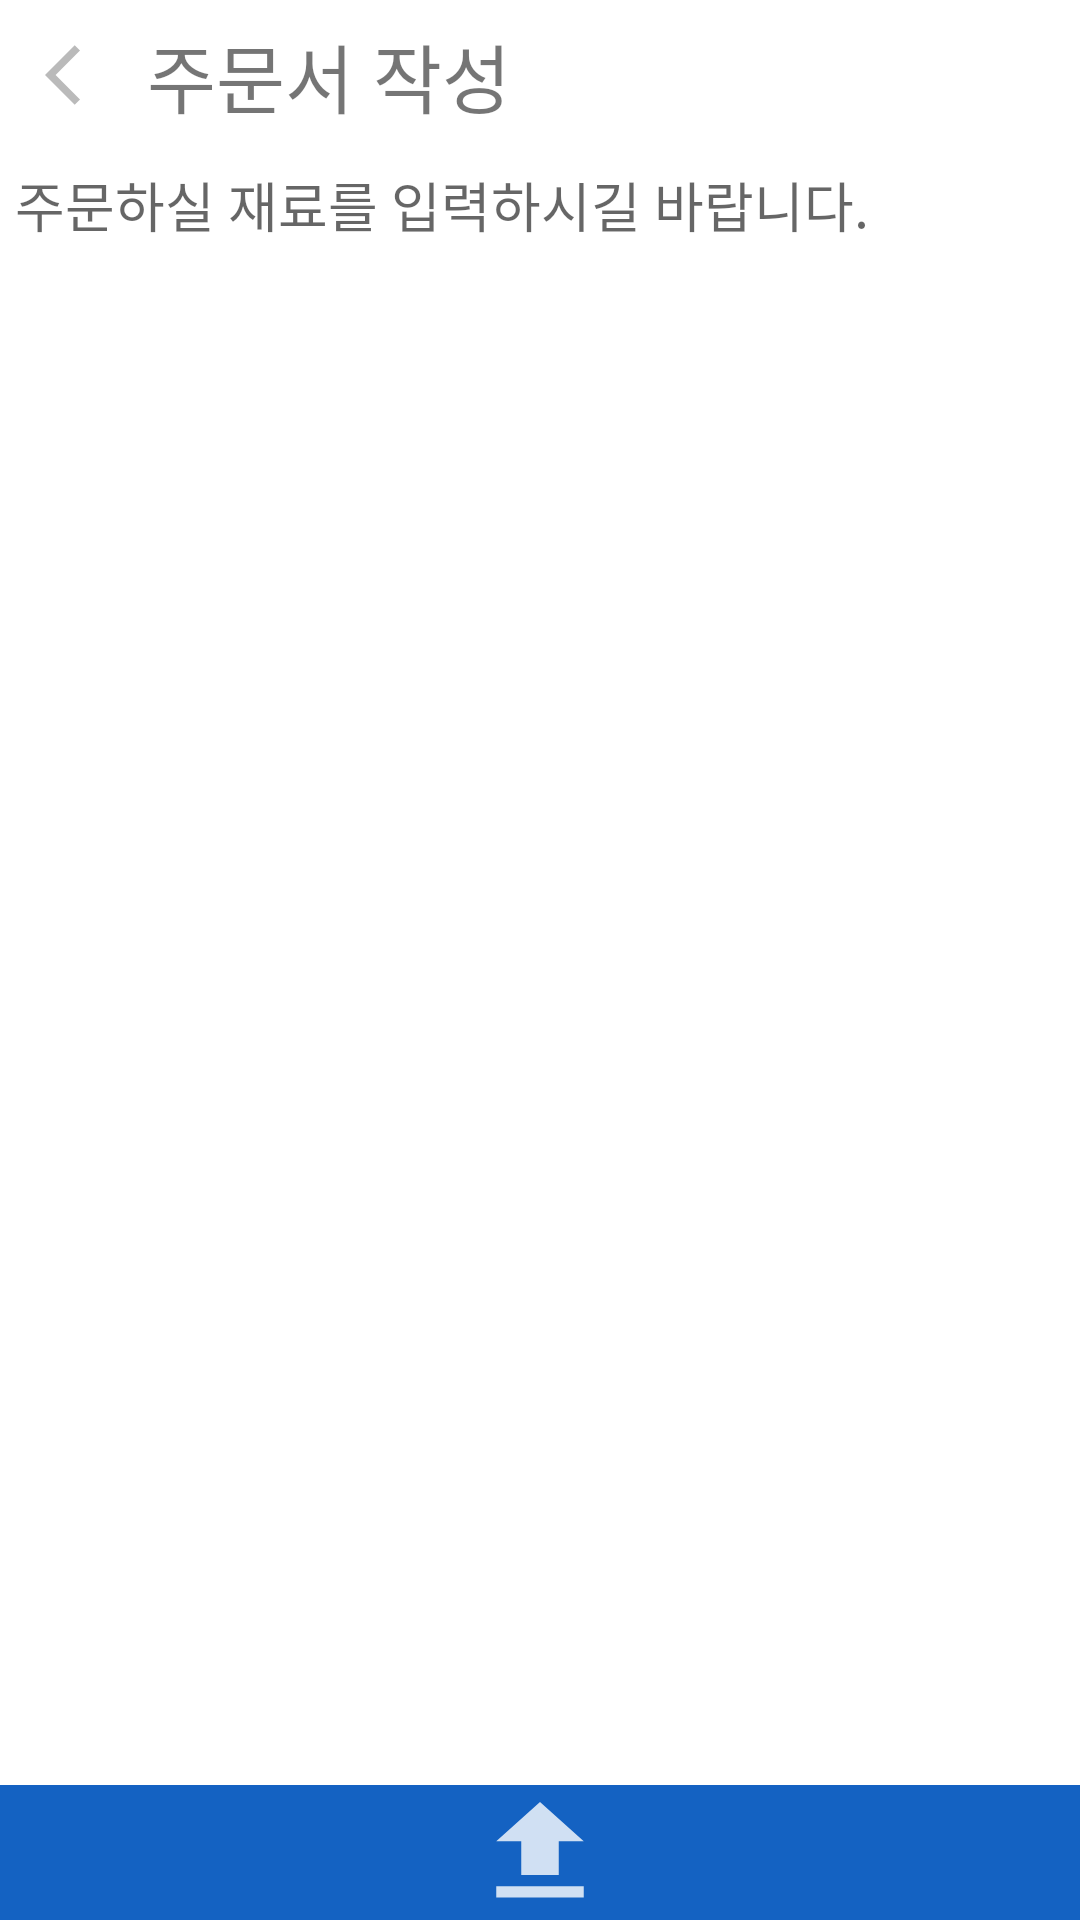

Icon click points for this 1080*1920 phone screenshot, format (x,y):
back: (62,75)
upload: (540,1850)
